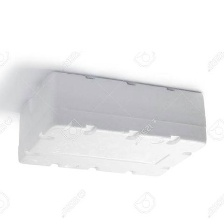foam_box: (14, 66, 211, 182)
